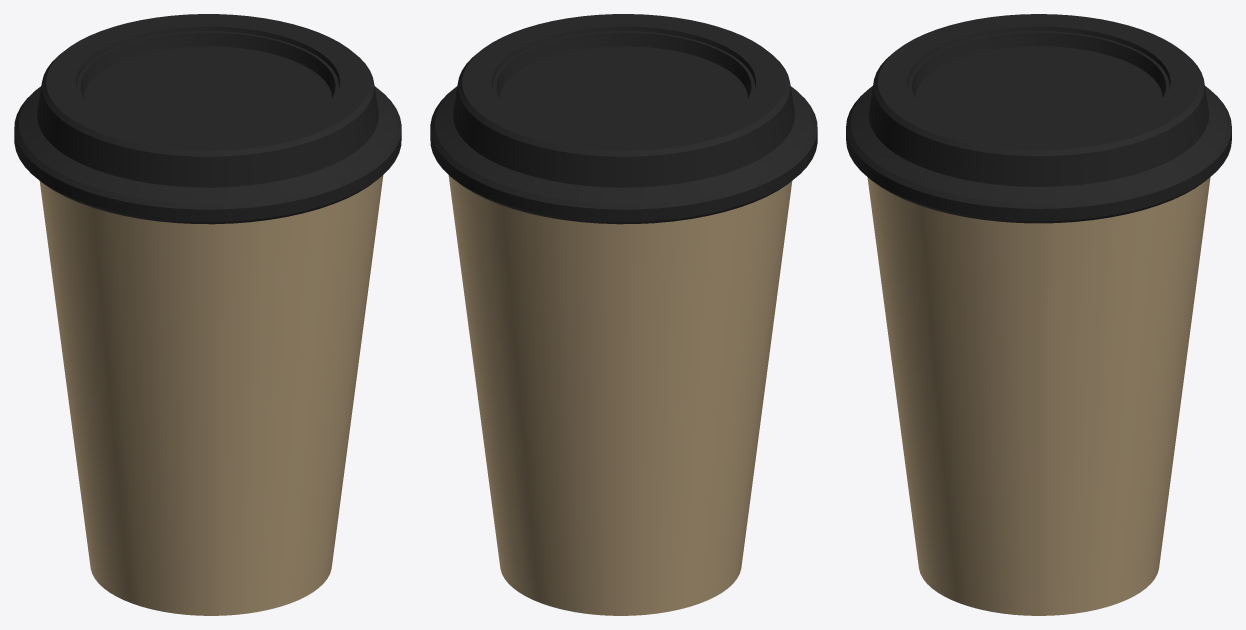
Rendered from simready-food_beverage_coffeeCup_a03.glb.
The picture shows the model from 3 angles, left to right: view 1: azimuth 30°, elevation 25°; view 2: azimuth 150°, elevation 25°; view 3: azimuth 270°, elevation 25°; orthographic projection.
Visible parts, largest first — view 1: paper_cup, lid_skin; view 2: paper_cup, lid_skin; view 3: paper_cup, lid_skin.
Part boxes in pixels (<box>): paper_cup: <box>39,175,383,615</box>; lid_skin: <box>14,14,401,224</box>; paper_cup: <box>448,175,792,615</box>; lid_skin: <box>430,14,817,224</box>; paper_cup: <box>867,177,1210,615</box>; lid_skin: <box>846,14,1231,223</box>.
Bounding box in the file's own units: 0.085 × 0.117 × 0.085.
